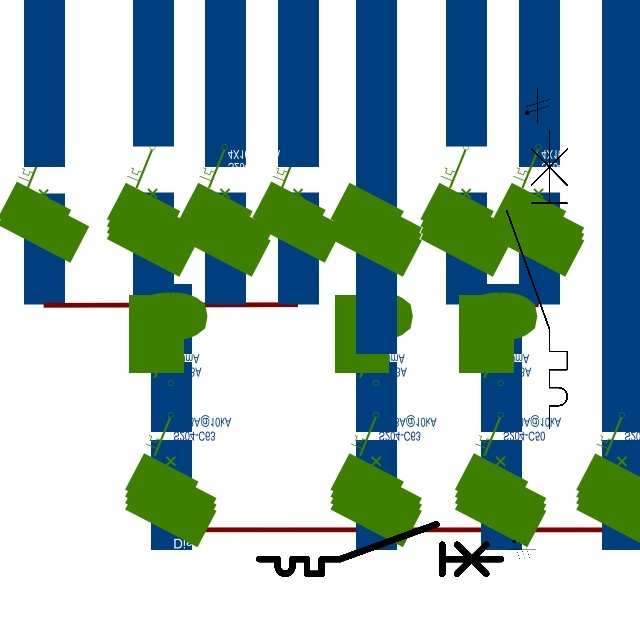interruptor_termomagnetico: (499, 123, 575, 435), (253, 518, 507, 580)
